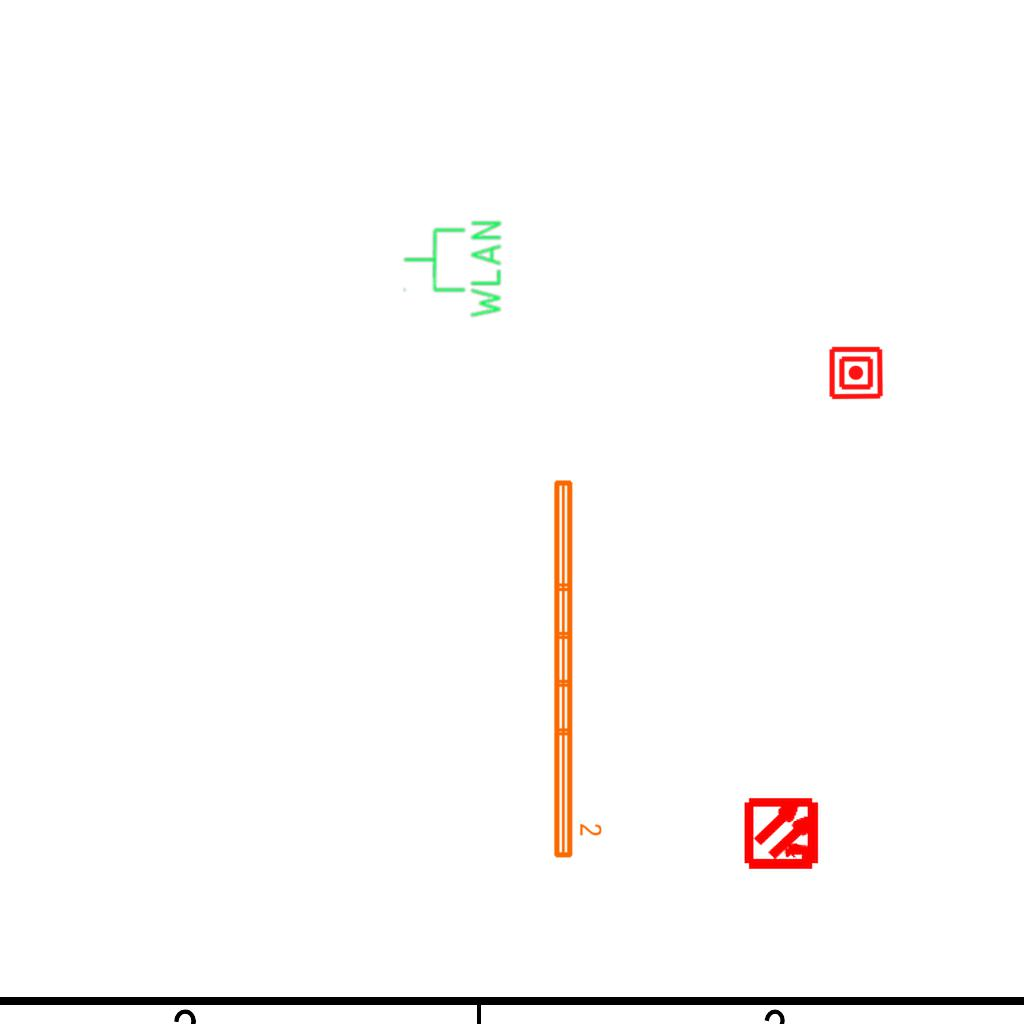Ambulanz_Pendelleuchte_LED: (548, 475, 604, 862)
NAM-Nichtautomatischer_Melder: (828, 345, 884, 401)
OT_Multisensormelder_(Kombination_RMO_WMD): (727, 777, 840, 890)
WLAN: (401, 217, 505, 322)
